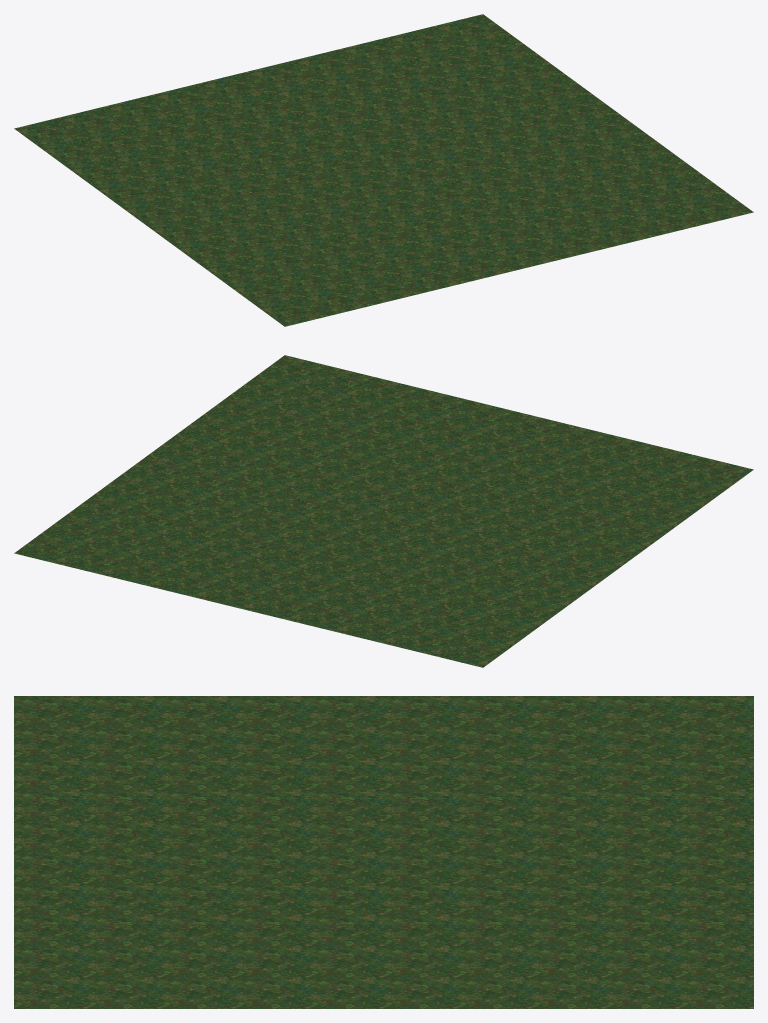
The model's file is Grass2.glb.
3 renders of one model, top to bottom at view 1: azimuth 30°, elevation 25°; view 2: azimuth 150°, elevation 25°; view 3: azimuth 270°, elevation 25°, orthographic. The views are drawn at different scales.
Bounding box in the file's own units: 100 × 0.000774 × 100.
1 material, 1 textured.
